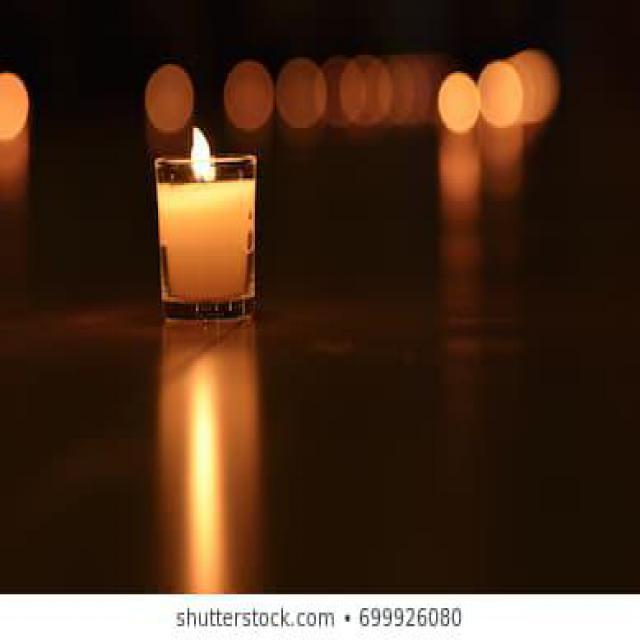Fire: (190, 126, 213, 180)
